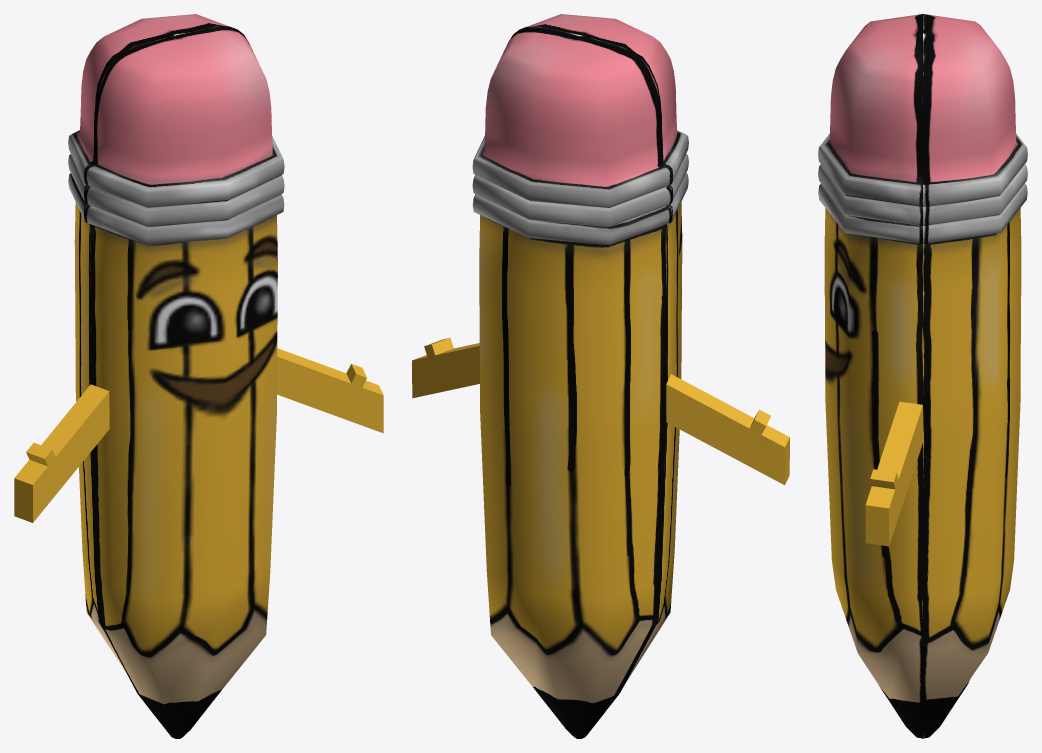
Rendered from Penny Cil.fbx.
3 views of the same model, side by side, from view 1: azimuth 30°, elevation 25°; view 2: azimuth 150°, elevation 25°; view 3: azimuth 270°, elevation 25° (orthographic).
Visible parts, largest first — view 1: Penny; view 2: Penny; view 3: Penny.
Boxes of the visible parts, x1=… form: Penny: x1=14, y1=14, x2=383, y2=738; Penny: x1=412, y1=14, x2=789, y2=738; Penny: x1=818, y1=14, x2=1027, y2=738.
Bounding box in the file's own units: 3.47 × 6.33 × 1.71.
Materials: 1 (1 with a texture image).
